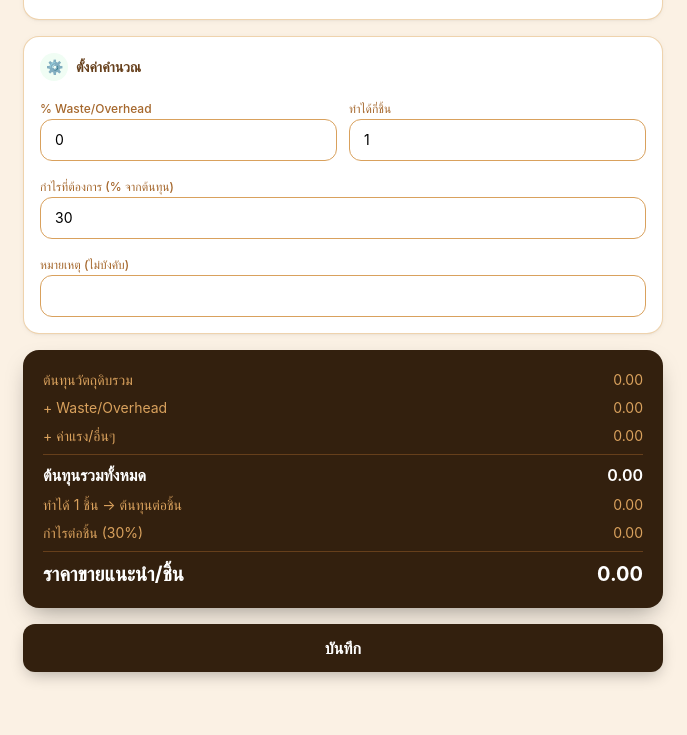
Scenario: CostRecipeForm — สร้างใหม่ › ไม่กรอกชื่อเมนู กดบันทึกแล้วขึ้น error ไม่ยิง saveCostRecipe
(page scrolled)
Click the button "บันทึก" at (343, 648), box left=23, top=624, right=663, bottom=672
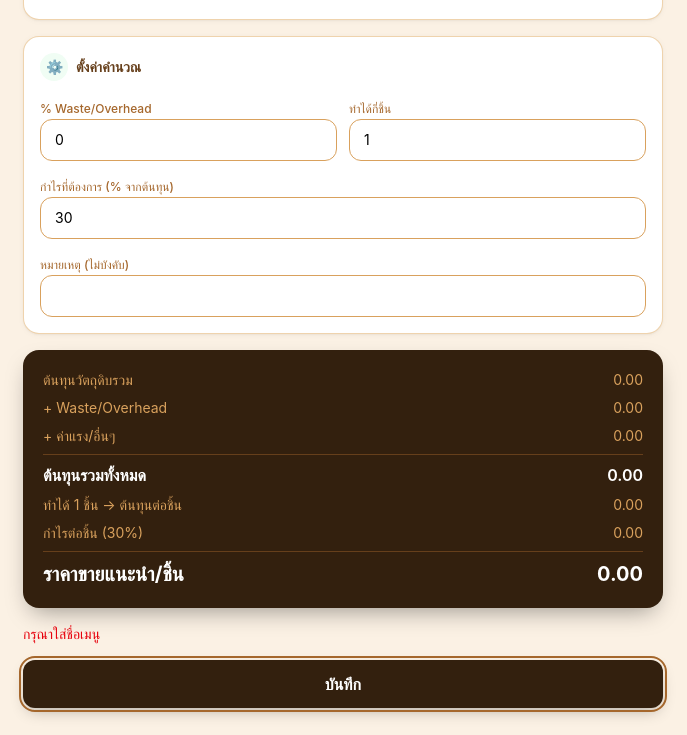
Result: the text "กรุณาใส่ชื่อเมนู" is shown at left=23, top=625, right=100, bottom=642
